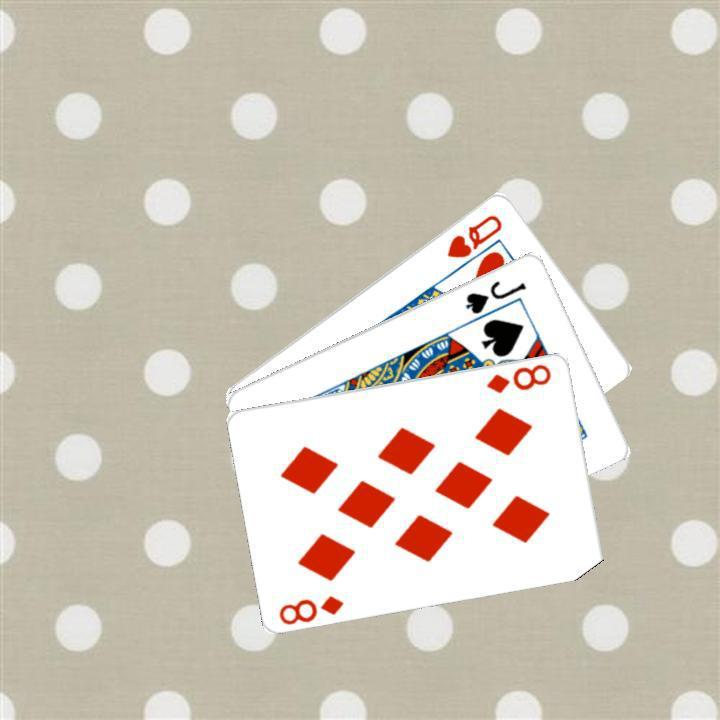8: (482, 359, 554, 395), (275, 591, 346, 626)
J: (461, 275, 528, 316)
Q: (442, 209, 505, 260)
